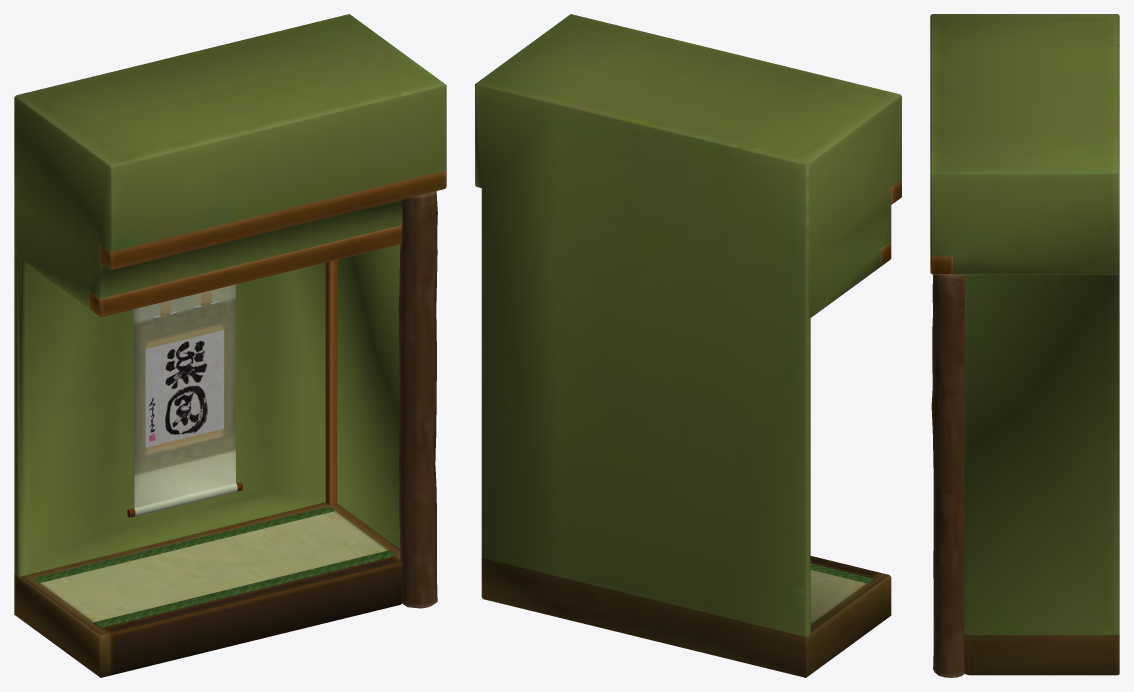
3 views of the same model, side by side, from view 1: azimuth 30°, elevation 25°; view 2: azimuth 150°, elevation 25°; view 3: azimuth 270°, elevation 25° (orthographic). The views are drawn at different scales.
Bounding box in the file's own units: 20 × 29.56 × 10.
2 materials, 2 textured.
